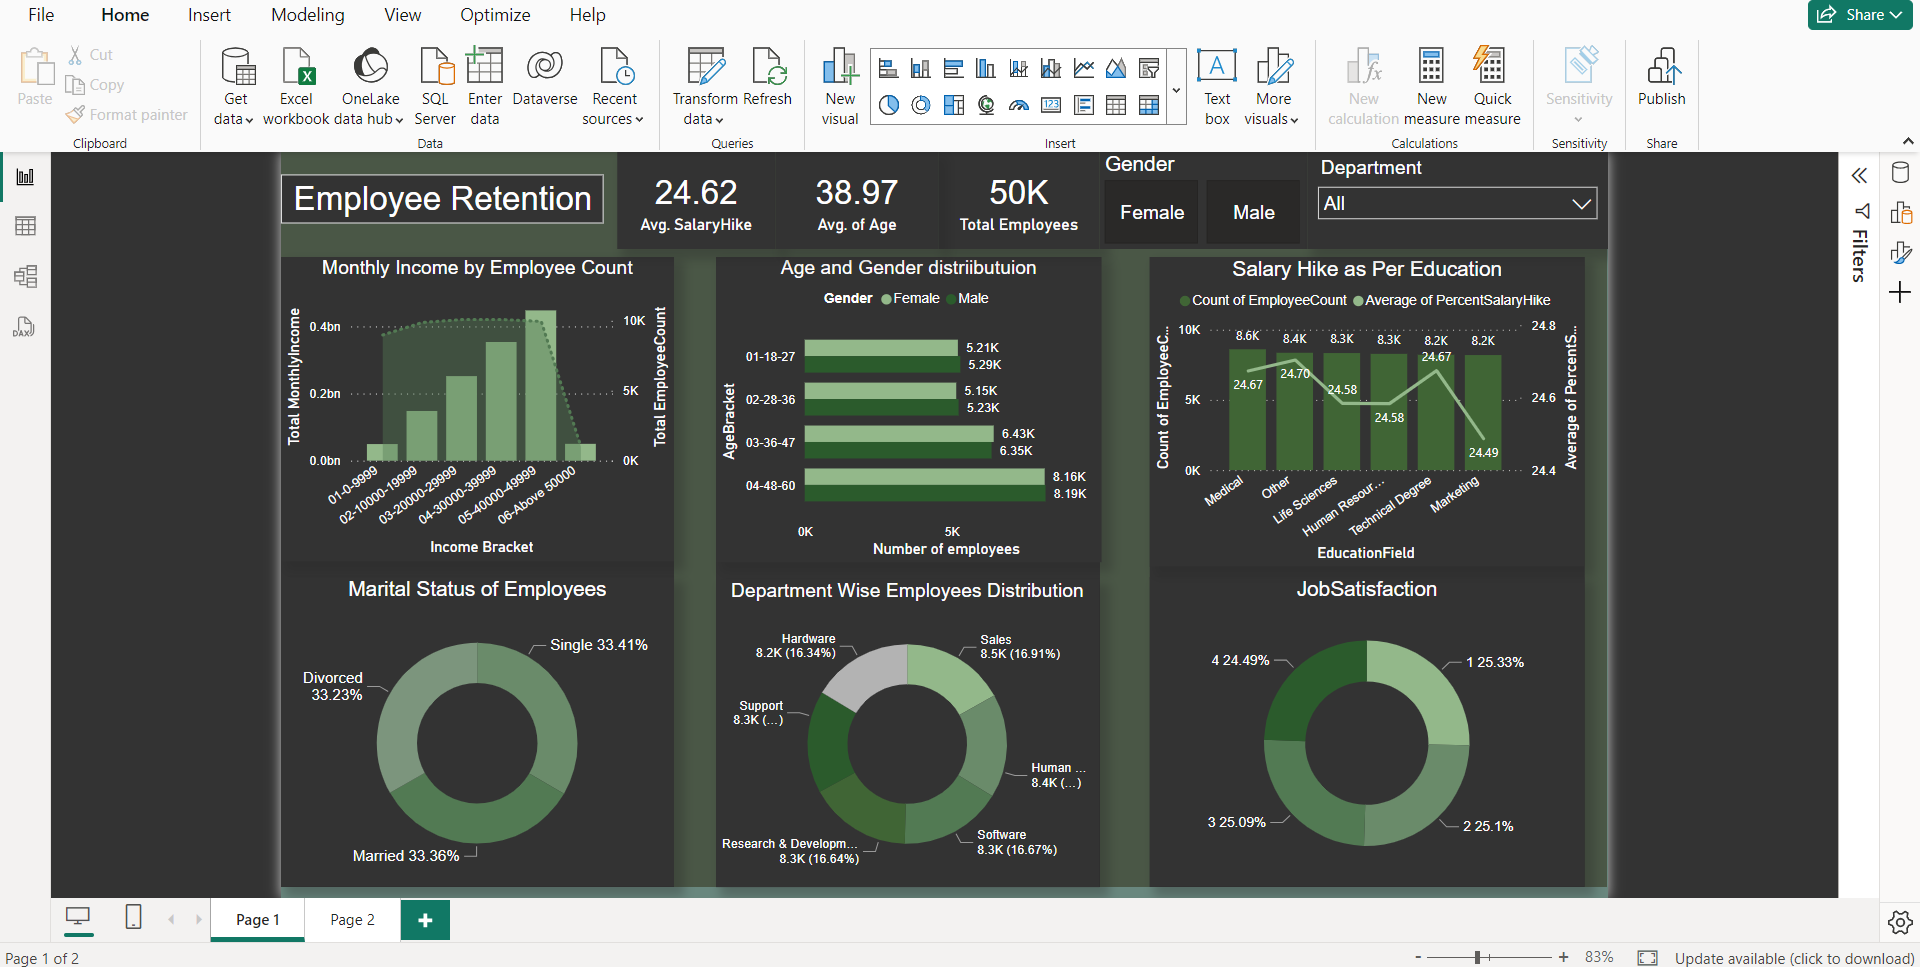

What the dashboard file says about the page in this screenshot:
{"tool":"powerbi","page":{"name":"Page 1","canvas":[1280,720],"ordinal":0},"visuals":[{"type":"group","id":"g1","title":"Group 1","box":[0,101.1,378.4,608],"z":0,"group":"g2"},{"type":"clusteredBarChart","title":"Age and Gender distriibutuion","fields":{"Category":["Sheet1.AgeBracket"],"Y":["CountNonNull(Sheet1.Age)"],"Series":["Sheet1.Gender"]},"box":[419.2,101.1,372,294.5],"z":0,"group":"g3"},{"type":"donutChart","title":"Marital Status of Employees","fields":{"Category":["Sheet1.MaritalStatus"],"Y":["CountNonNull(Sheet1.MaritalStatus)"]},"box":[0,410.3,379,298.7],"z":0,"group":"g1"},{"type":"donutChart","title":"JobSatisfaction","fields":{"Category":["Sheet1.JobSatisfaction"],"Y":["CountNonNull(Sheet1.JobSatisfaction)"]},"box":[839,410.3,419.2,298.6],"z":0,"group":"g4"},{"type":"group","id":"g2","title":"Group 4","box":[0,0,1279.9,709.2],"z":16},{"type":"lineStackedColumnComboChart","title":"Monthly Income by Employee Count","fields":{"Category":["Sheet1 (2).Income Bracket"],"Y":["Sum(Sheet1 (2).MonthlyIncome)"],"Y2":["Sum(Sheet1.EmployeeCount)"]},"box":[0,101.1,379,293.5],"z":1000,"group":"g1"},{"type":"group","id":"g3","title":"Group 2","box":[419.2,101.1,370.6,608],"z":1000,"group":"g2"},{"type":"lineClusteredColumnComboChart","title":"Salary Hike as Per Education","fields":{"Category":["Sheet1.EducationField"],"Y":["CountNonNull(Sheet1.EmployeeCount)"],"Y2":["Avg(Sheet1 (2).PercentSalaryHike)"]},"box":[838.4,101.1,419.6,298.3],"z":1000,"group":"g4"},{"type":"donutChart","title":"Department Wise Employees Distribution","fields":{"Y":["Sum(Sheet1.EmployeeCount)"],"Category":["Sheet1.Department"]},"box":[419.6,411.9,369.4,297.1],"z":1000,"group":"g3"},{"type":"group","id":"g4","title":"Group 3","box":[838.4,101.1,419.2,608],"z":2000,"group":"g2"},{"type":"textbox","box":[0,22.3,310.9,47.4],"z":3000,"group":"g2"},{"type":"card","fields":{"Values":["Avg(Sheet1 (2).PercentSalaryHike)"]},"box":[324.8,0,152.7,93.4],"z":4000,"group":"g2"},{"type":"card","fields":{"Values":["Sum(Sheet1.EmployeeCount)"]},"box":[634.4,0,155.5,93.4],"z":5000,"group":"g2"},{"type":"card","fields":{"Values":["Avg(Sheet1.Age)"]},"box":[477.5,0,156.9,93.4],"z":6000,"group":"g2"},{"type":"advancedSlicerVisual","fields":{"Values":["Sheet1.Gender"]},"box":[789.9,0,199.9,93.4],"z":7000,"group":"g2"},{"type":"slicer","fields":{"Values":["Sheet1.Department"]},"box":[989.7,0,290.1,93.4],"z":8000,"group":"g2"}]}

Visuals, with their boxes on the page's 1280x720 design canvas (x1, y1, x2, y2). These are canvas units, not pixel positions in the 1920x967 screenshot, which may show the page scaled, cropped or inside an application window:
"Group 1" group: l=0, t=101, r=378, b=709
"Age and Gender distriibutuion" clusteredBarChart: l=419, t=101, r=791, b=396
"Marital Status of Employees" donutChart: l=0, t=410, r=379, b=709
"JobSatisfaction" donutChart: l=839, t=410, r=1258, b=709
"Group 4" group: l=0, t=0, r=1280, b=709
"Monthly Income by Employee Count" lineStackedColumnComboChart: l=0, t=101, r=379, b=395
"Group 2" group: l=419, t=101, r=790, b=709
"Salary Hike as Per Education" lineClusteredColumnComboChart: l=838, t=101, r=1258, b=399
"Department Wise Employees Distribution" donutChart: l=420, t=412, r=789, b=709
"Group 3" group: l=838, t=101, r=1258, b=709
textbox: l=0, t=22, r=311, b=70
card - Avg(Sheet1 (2).PercentSalaryHike): l=325, t=0, r=478, b=93
card - Sum(Sheet1.EmployeeCount): l=634, t=0, r=790, b=93
card - Avg(Sheet1.Age): l=478, t=0, r=634, b=93
advancedSlicerVisual - Sheet1.Gender: l=790, t=0, r=990, b=93
slicer - Sheet1.Department: l=990, t=0, r=1280, b=93
